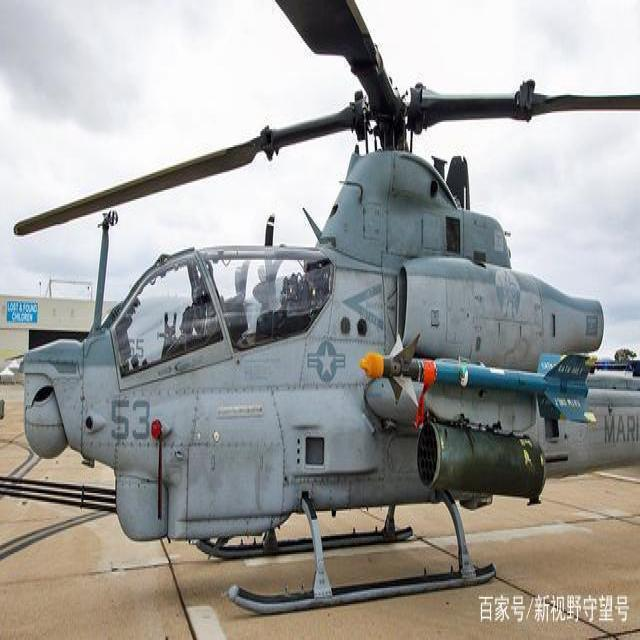MIL_HELO: (10, 0, 629, 602)
